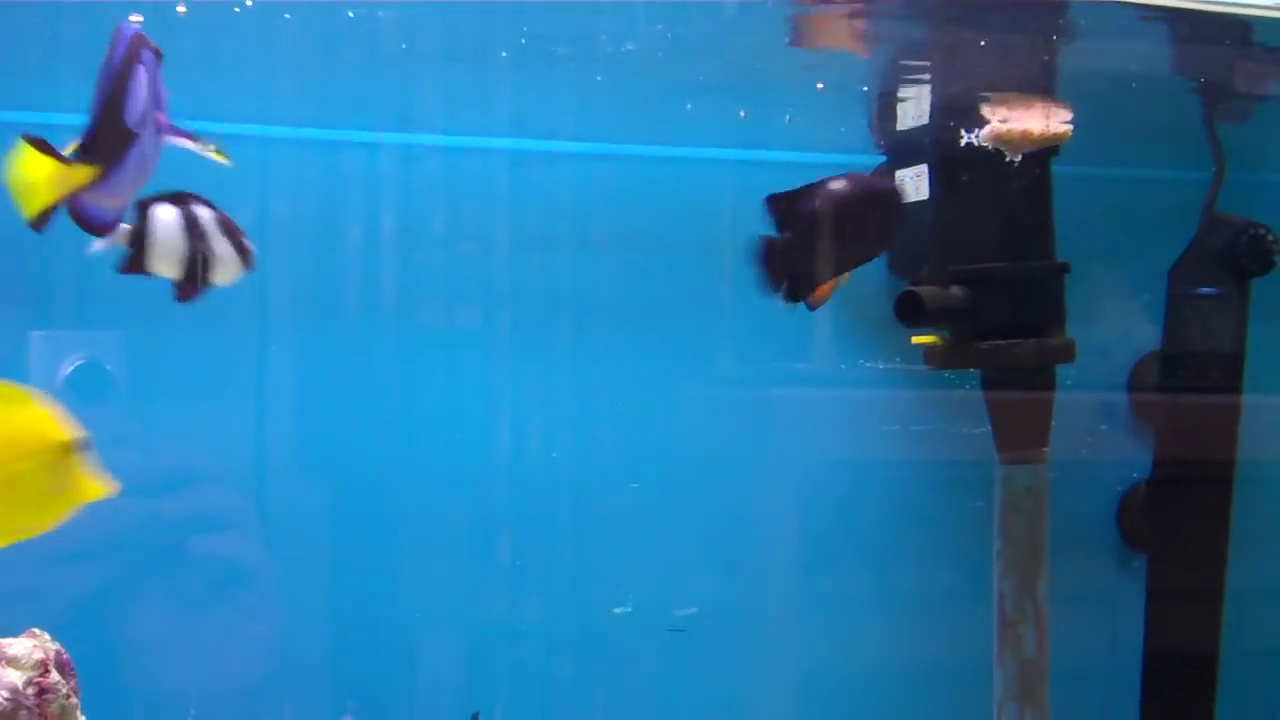blue tang surgeonfish: (0, 10, 165, 247)
